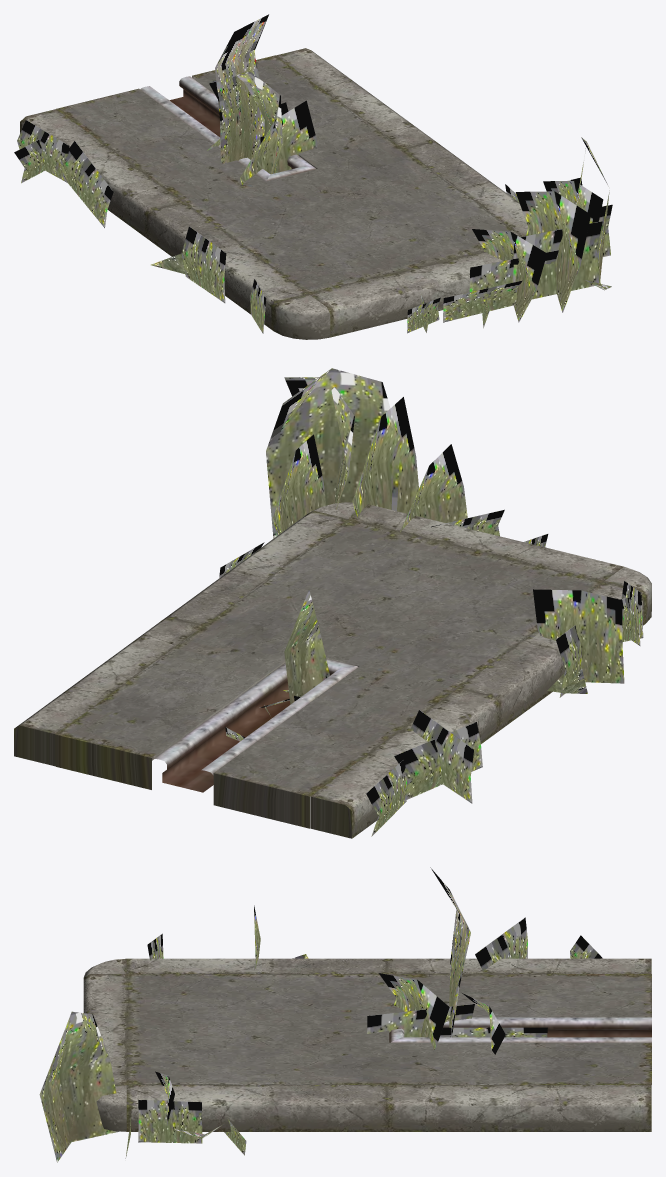
File: crane_track_150x900_end.glb
3 views of the same model, one above another, from view 1: azimuth 30°, elevation 25°; view 2: azimuth 150°, elevation 25°; view 3: azimuth 270°, elevation 25° (orthographic). The views are drawn at different scales.
Parts seen in each view (by area): view 1: crane_track_150x900_end, cracks_grass_i_temperate, cracks_grass_b_temperate, cracks_grass_f_temperate; view 2: crane_track_150x900_end, cracks_grass_i_temperate, cracks_grass_f_temperate, cracks_grass_b_temperate; view 3: crane_track_150x900_end, cracks_grass_i_temperate, cracks_grass_b_temperate, cracks_grass_f_temperate.
Boxes of the visible parts, box(x1,y1,x2,y2) form: crane_track_150x900_end: box(20, 48, 527, 339); cracks_grass_i_temperate: box(407, 137, 612, 333); cracks_grass_b_temperate: box(207, 14, 317, 184); cracks_grass_f_temperate: box(14, 120, 266, 333); crane_track_150x900_end: box(14, 502, 651, 838); cracks_grass_i_temperate: box(219, 368, 548, 577); cracks_grass_f_temperate: box(366, 580, 643, 836); cracks_grass_b_temperate: box(225, 589, 329, 741); crane_track_150x900_end: box(83, 958, 651, 1131); cracks_grass_i_temperate: box(39, 1011, 246, 1162); cracks_grass_b_temperate: box(367, 867, 547, 1054); cracks_grass_f_temperate: box(147, 905, 602, 970).
Size of the model in its own units: 2.65 by 1.14 by 3.64.
Materials: 3 (3 with a texture image).
